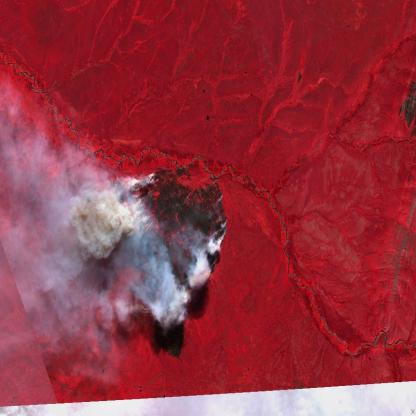fire: (103, 169, 160, 233), (195, 187, 228, 290), (140, 285, 165, 319)
